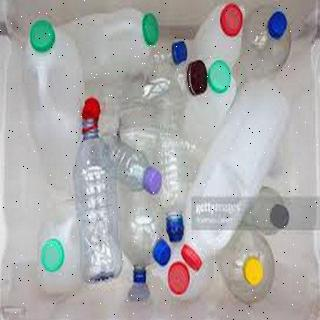Plastic-bottle: (119, 77, 164, 303), (72, 116, 127, 286), (147, 58, 192, 240), (101, 134, 166, 199), (238, 7, 294, 80)
